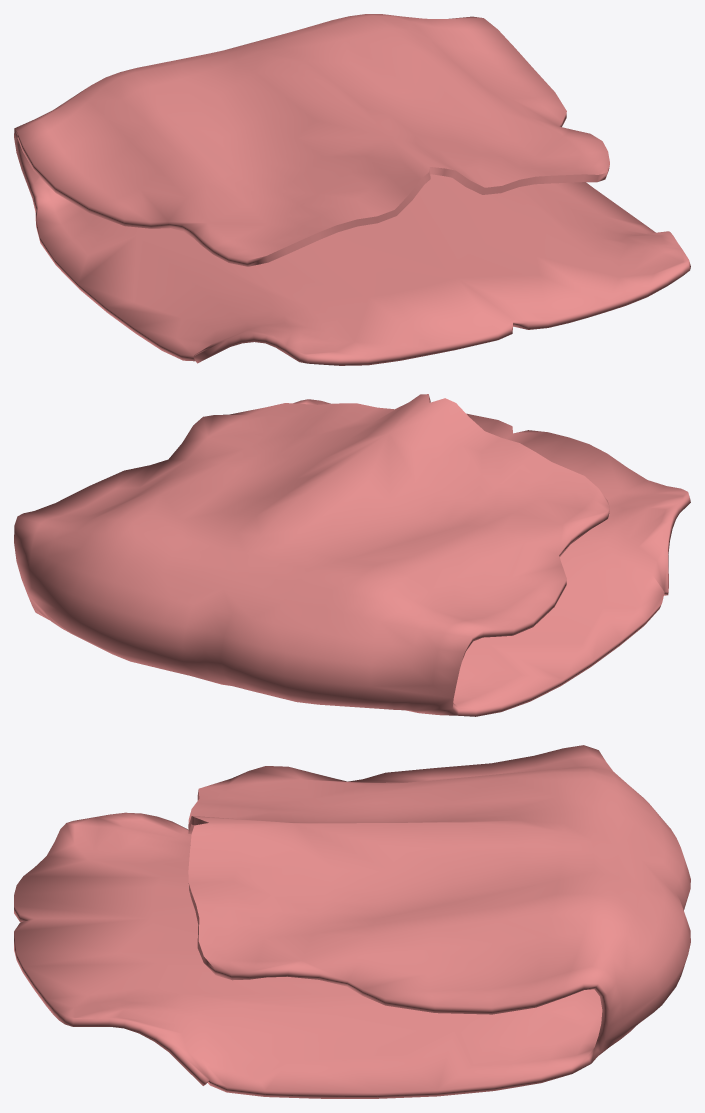
File: visceras-soft-palate.glb
3 views of the same model, one above another, from view 1: azimuth 30°, elevation 25°; view 2: azimuth 150°, elevation 25°; view 3: azimuth 270°, elevation 25° (orthographic). The views are drawn at different scales.
Visible parts, largest first — view 1: Soft palate; view 2: Soft palate; view 3: Soft palate.
Part boxes in pixels (left/top/right/bottom): Soft palate: left=14, top=14, right=690, bottom=365; Soft palate: left=14, top=394, right=690, bottom=716; Soft palate: left=14, top=745, right=690, bottom=1098.
Bounding box in the file's own units: 0.0353 × 0.0102 × 0.0406.
